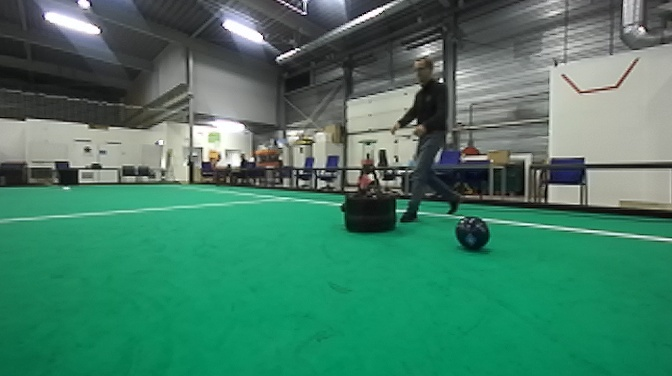ball: (454, 212, 496, 252)
human: (400, 58, 460, 234)
robot: (339, 137, 405, 239)
